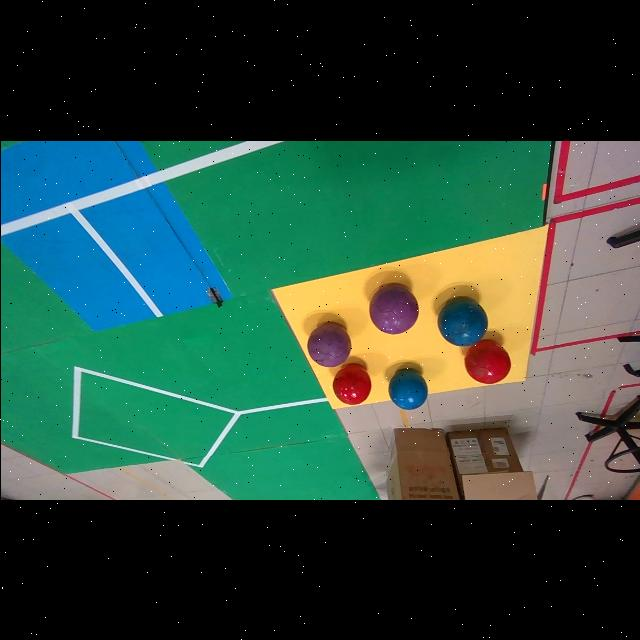B: (436, 298, 486, 346), (387, 369, 427, 410)
P: (368, 283, 418, 334), (307, 323, 351, 367)
R: (464, 340, 510, 383), (332, 363, 370, 404)
